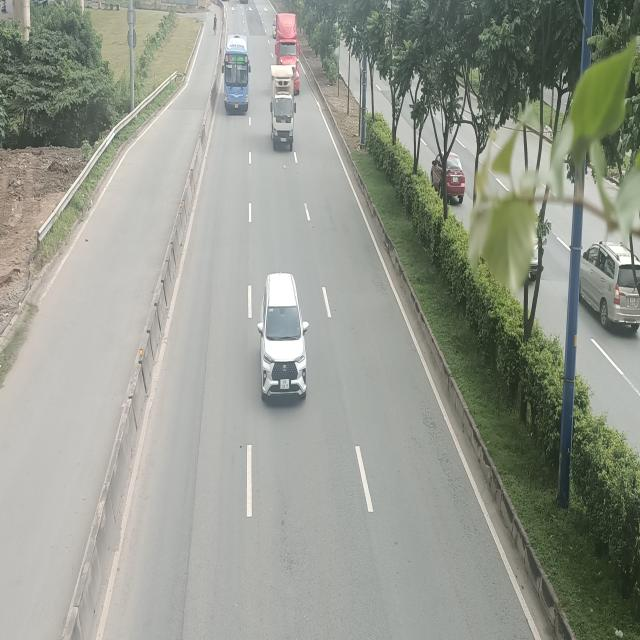car: (258, 273, 310, 405)
coach: (223, 34, 251, 116)
container: (275, 13, 299, 93)
truck: (270, 64, 297, 148)
